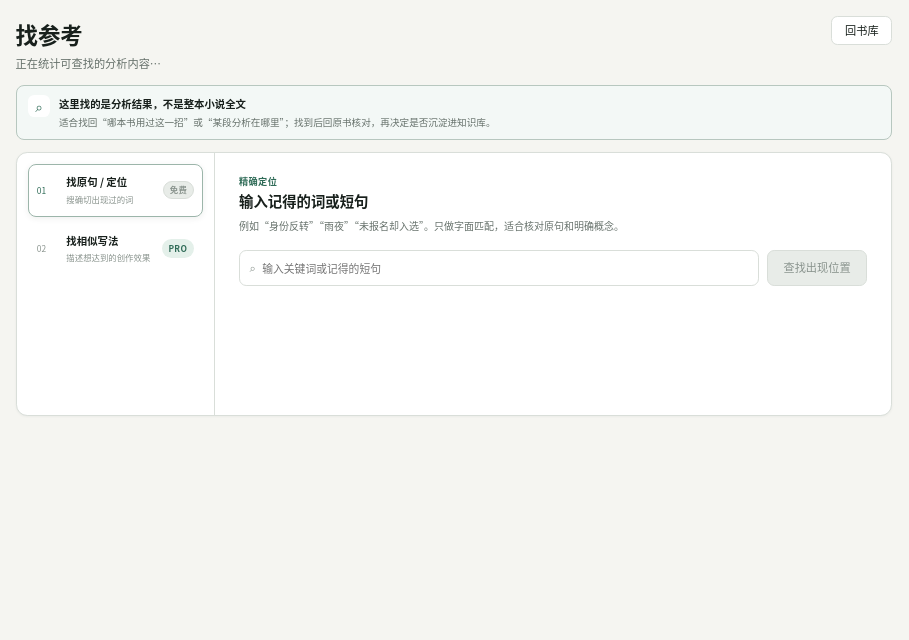
Test: 找参考 › 关键词零命中时把「按意思找」指出来，而不是只说没有
This screenshot has width=909, height=640.
Type "打破读者预期" into the field with test id "cb-input". click: (506, 268)
box: [262,251,749,285]
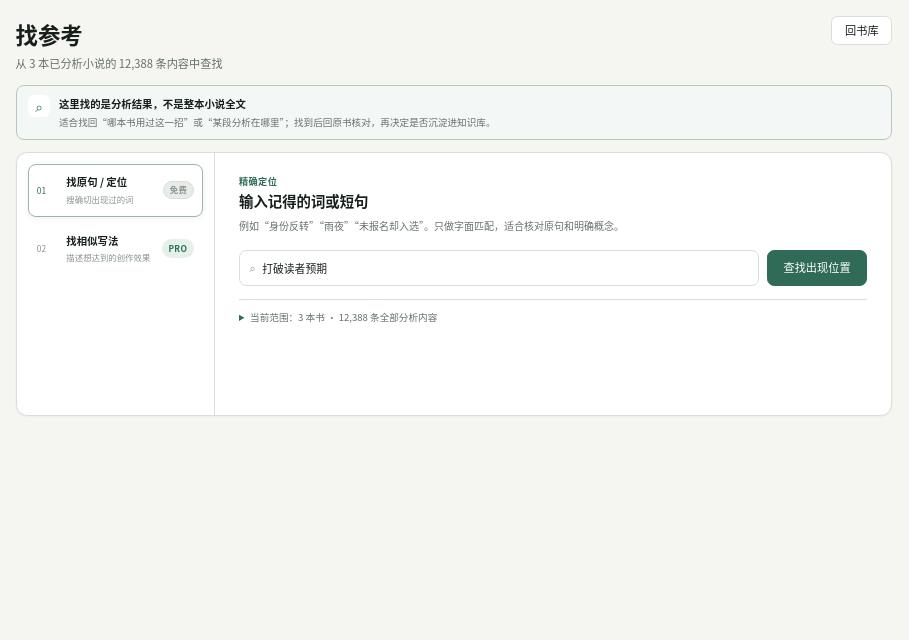
Click the button with test id "cb-run". click: (817, 268)
box: [767,250,867,286]
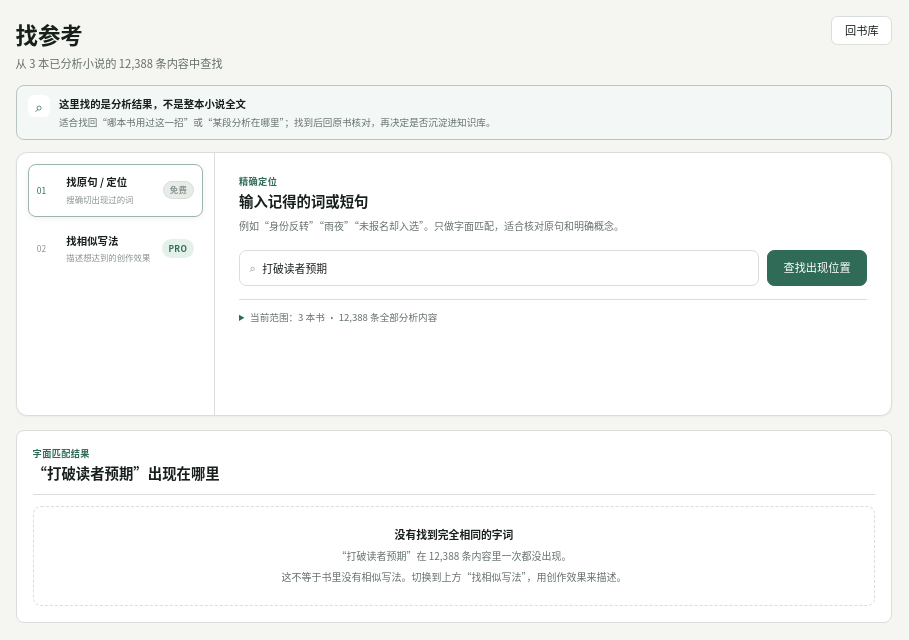
Now the element with test id "cb-keyword-none" shows "一次都没出现", box [459,548,572,563]
Now the element with test id "cb-keyword-none" shows "找相似写法", box [282,569,626,584]
